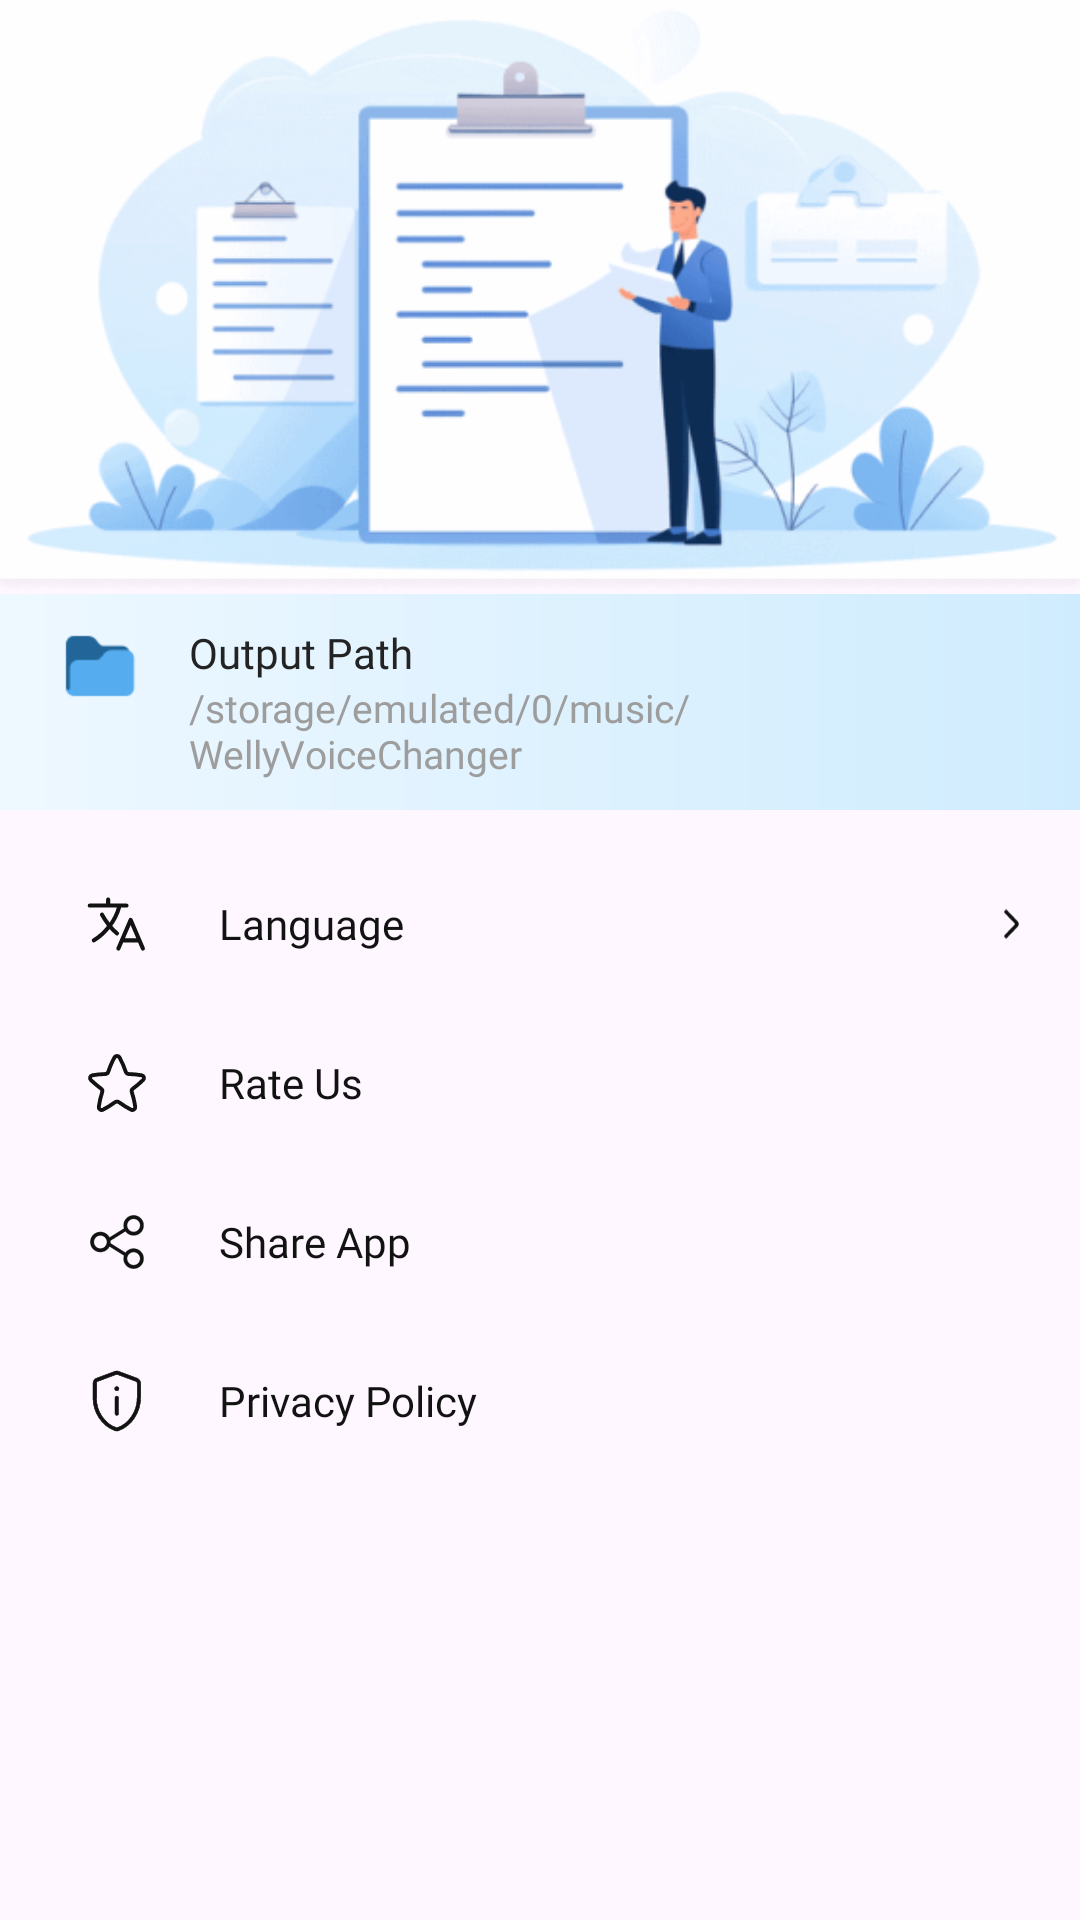

Named icons in this screenshot (1080px x 1920px) and their bounding boxes, {"left": x1, "top": y1, "right": x2, "bottom": y2}:
imv file left: {"left": 65, "top": 635, "right": 135, "bottom": 697}
imv policy: {"left": 92, "top": 1370, "right": 141, "bottom": 1432}
imv rate: {"left": 88, "top": 1054, "right": 146, "bottom": 1112}
imv share: {"left": 90, "top": 1215, "right": 144, "bottom": 1269}
